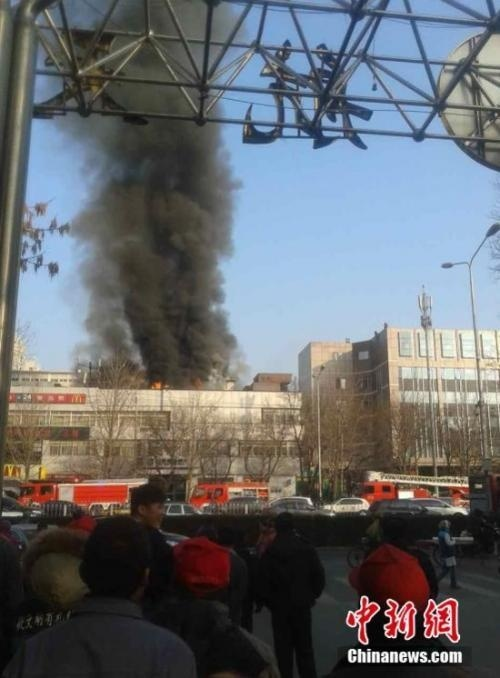fire: (150, 378, 164, 390)
